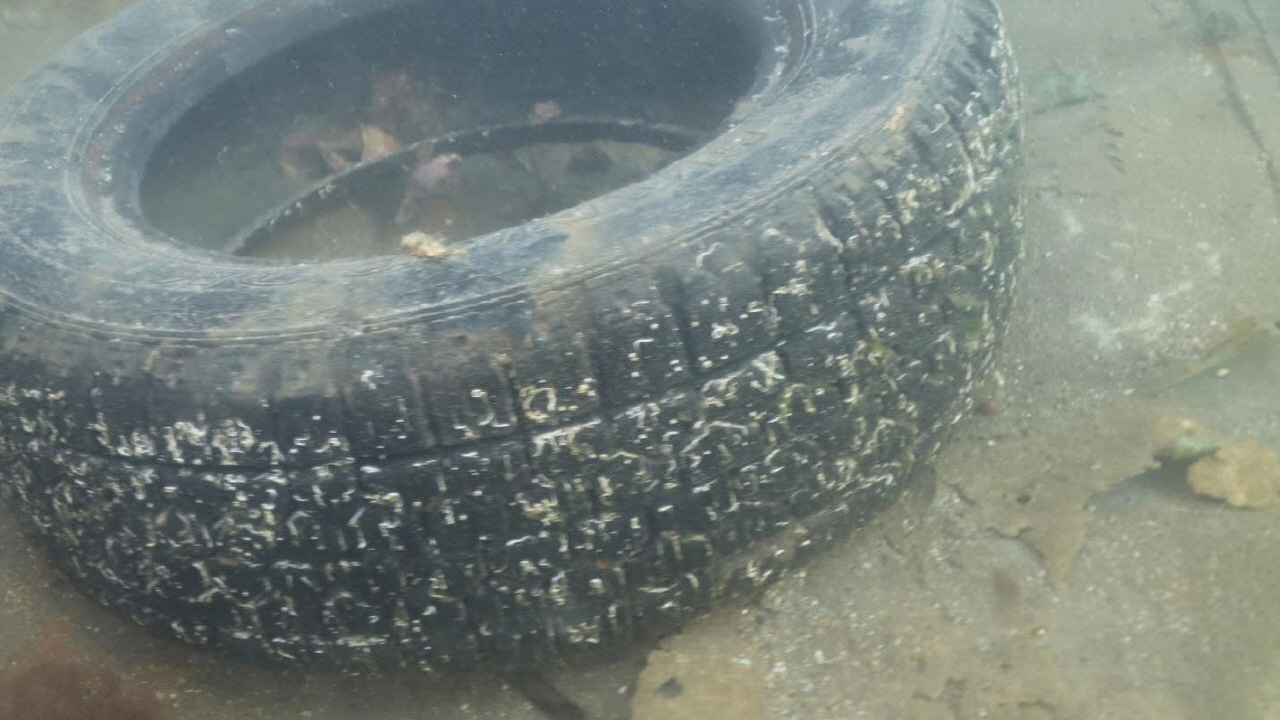tire: (0, 0, 1029, 683)
